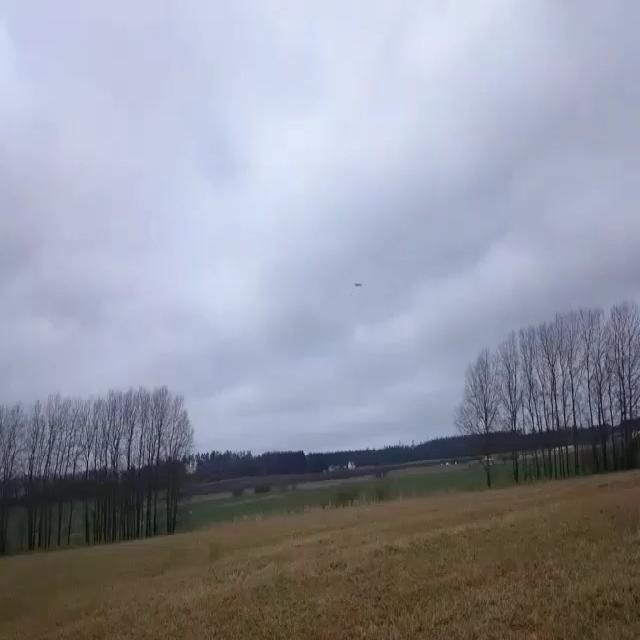drone: (355, 283, 363, 287)
